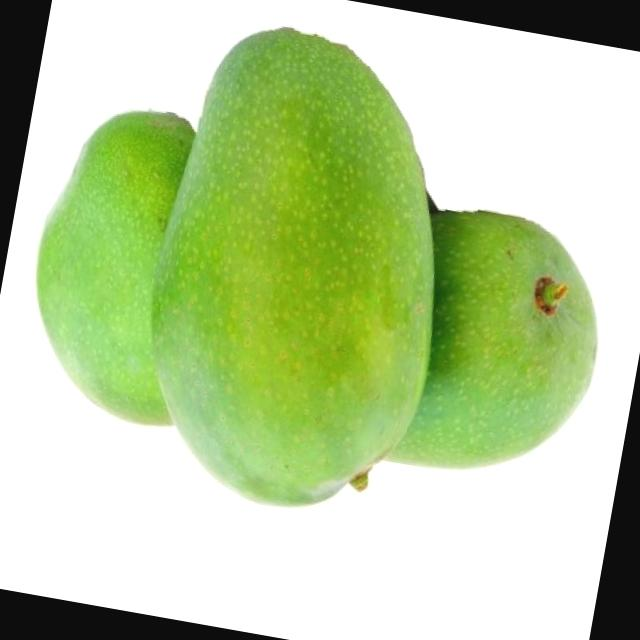Mango: (120, 12, 486, 534), (310, 182, 618, 500), (8, 98, 240, 432)
